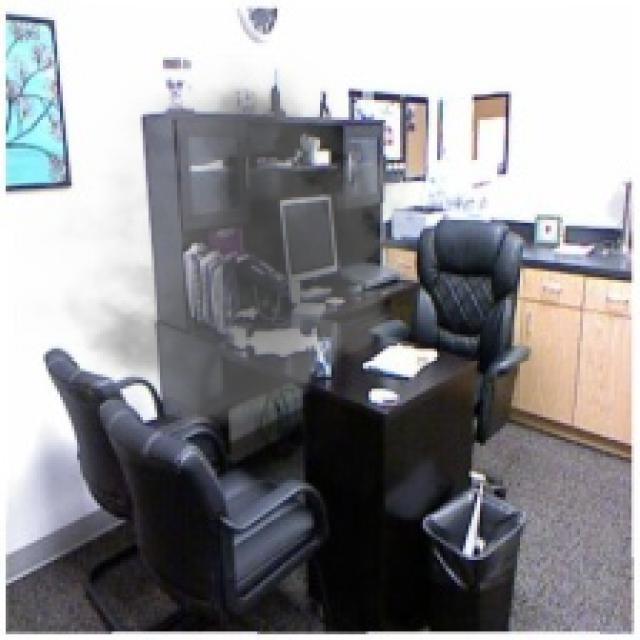smoke: (14, 54, 434, 449)
